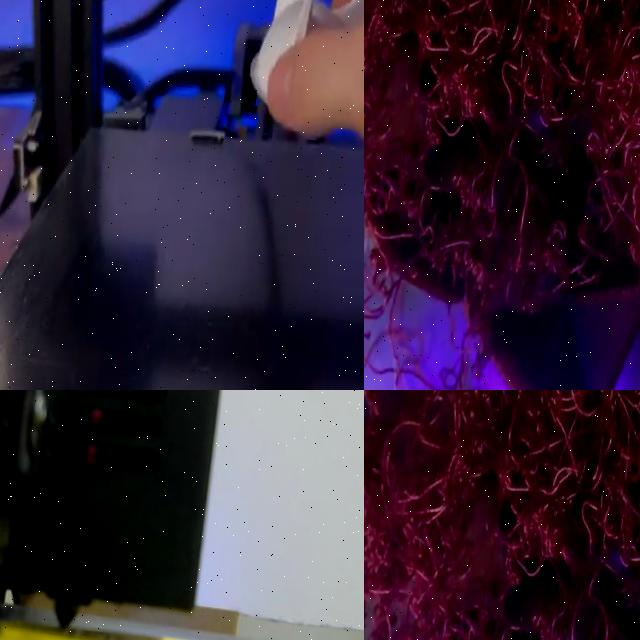spaghetti: (364, 390, 640, 640), (364, 289, 484, 390)
